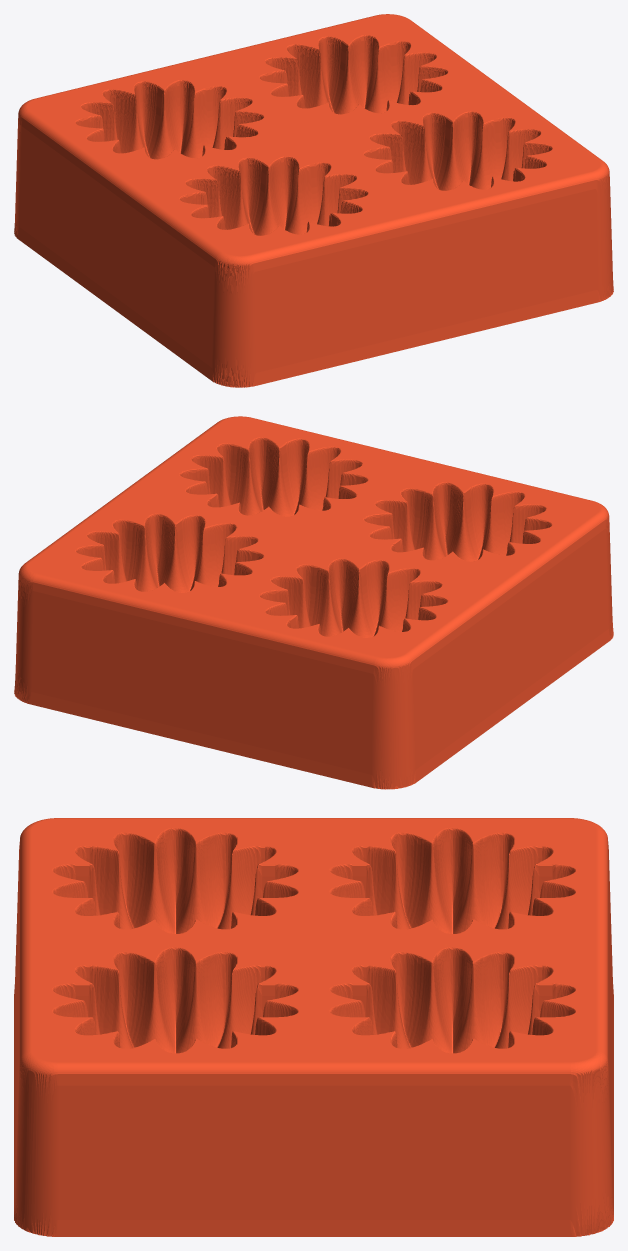
Rendered from mold.glb.
The picture shows the model from 3 angles, top to bottom: view 1: azimuth 30°, elevation 25°; view 2: azimuth 150°, elevation 25°; view 3: azimuth 270°, elevation 25°; orthographic projection. The views are drawn at different scales.
Parts seen in each view (by area): view 1: geometry_0; view 2: geometry_0; view 3: geometry_0.
Part boxes in pixels (x1,y1,x2,y2): geometry_0: [14, 14, 613, 387]; geometry_0: [14, 416, 613, 789]; geometry_0: [14, 818, 613, 1236].
Bounding box in the file's own units: 0.1248 × 0.0378 × 0.1227.
